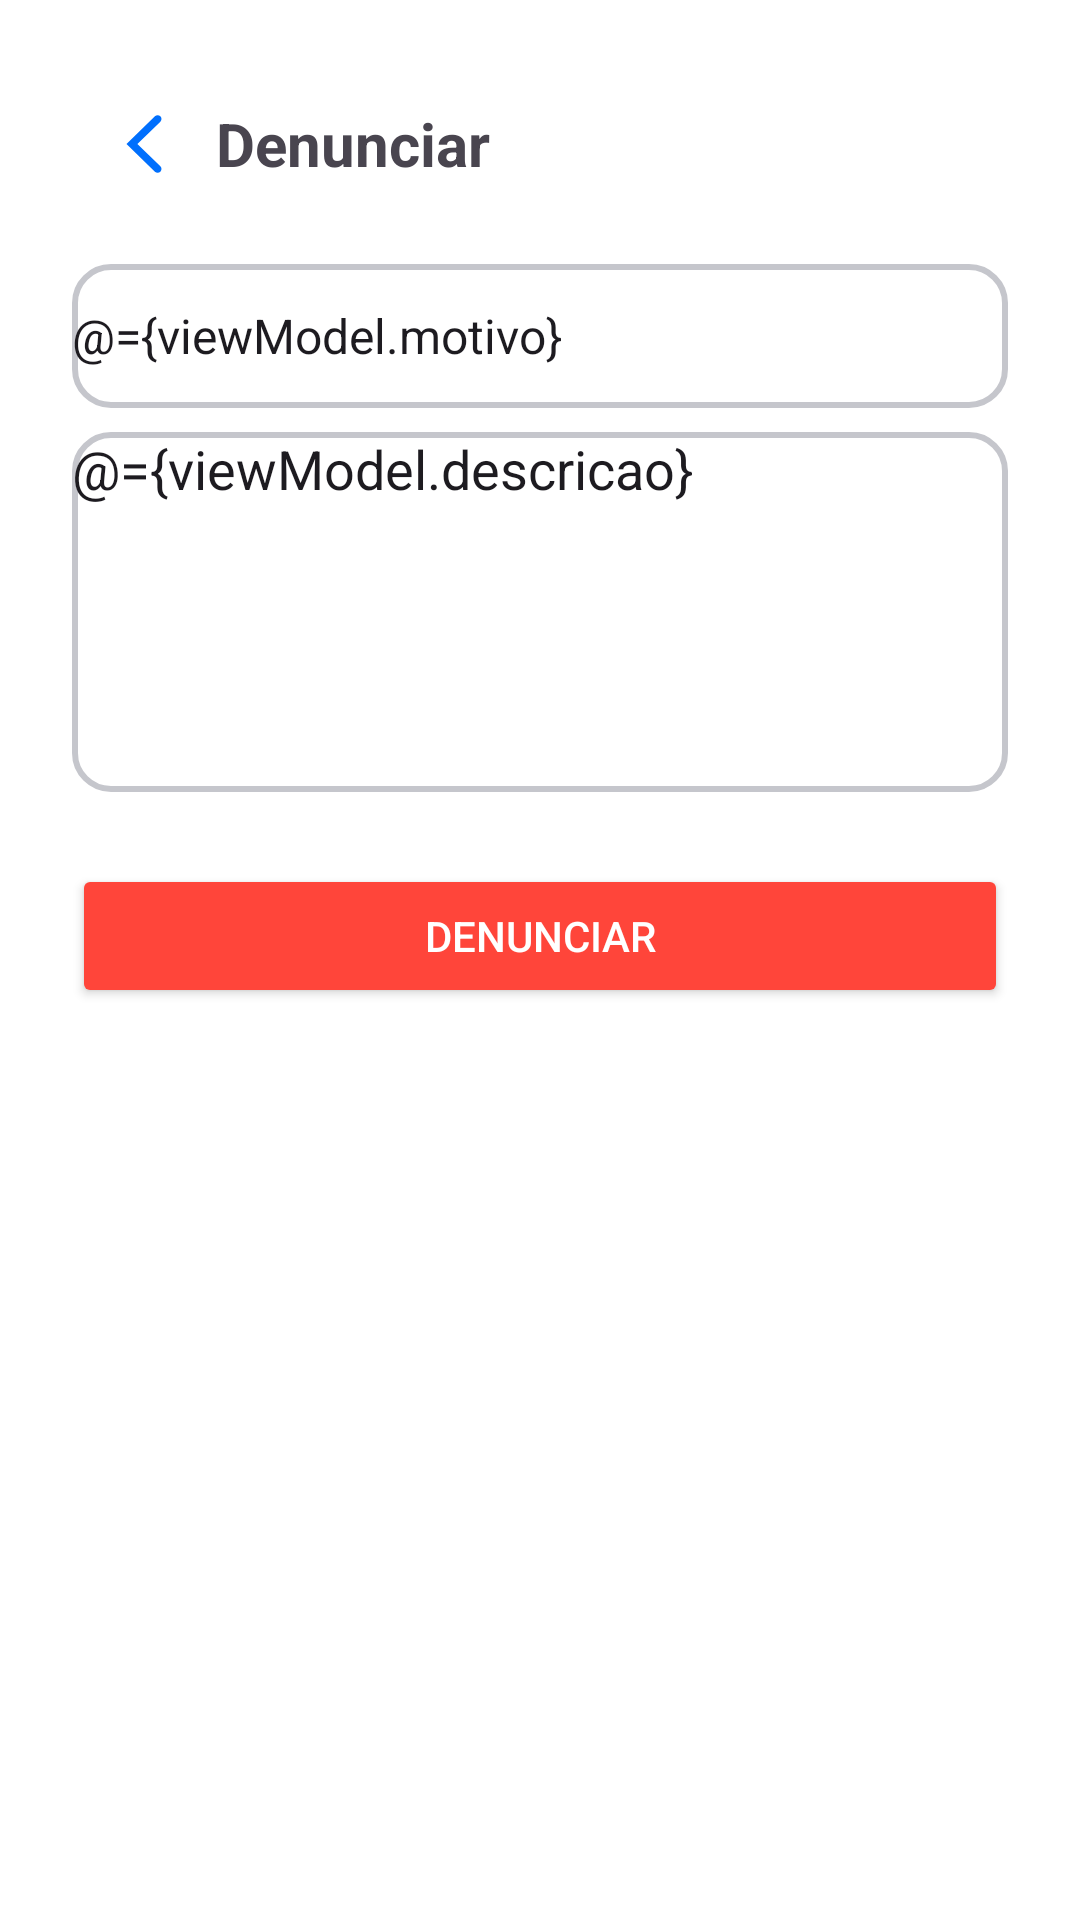

Where to tap for icons on this 1080×1920 app screen, as [x,y]:
Voltar: [144,144]
